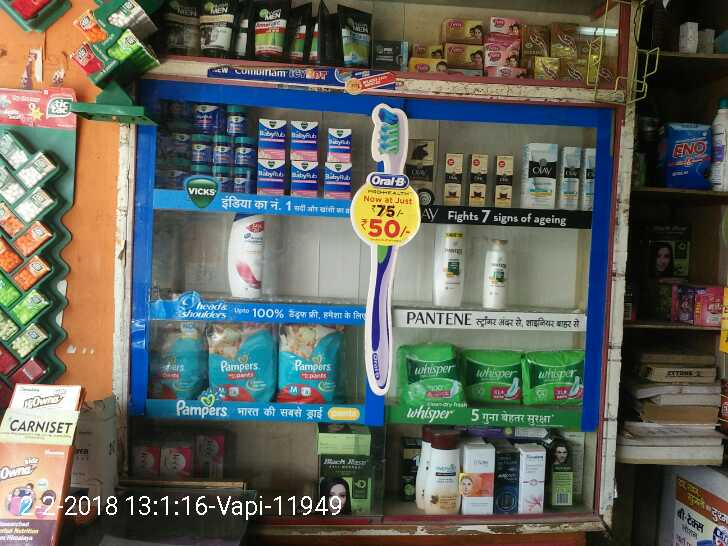beauty: (224, 209, 266, 308), (517, 141, 560, 220), (430, 227, 468, 308), (403, 138, 437, 206), (484, 234, 513, 311), (465, 151, 493, 209), (443, 147, 463, 211), (493, 155, 517, 207), (563, 145, 581, 214)
pharmacy: (204, 319, 273, 406), (277, 323, 335, 403), (455, 348, 522, 410), (390, 345, 459, 405), (150, 323, 201, 391), (526, 349, 580, 408), (252, 157, 290, 200), (286, 120, 322, 162), (252, 119, 286, 158), (291, 159, 321, 199), (189, 95, 220, 133), (325, 161, 353, 196), (327, 130, 354, 165), (225, 107, 250, 138), (231, 132, 254, 165), (213, 132, 231, 168), (191, 133, 210, 160)
